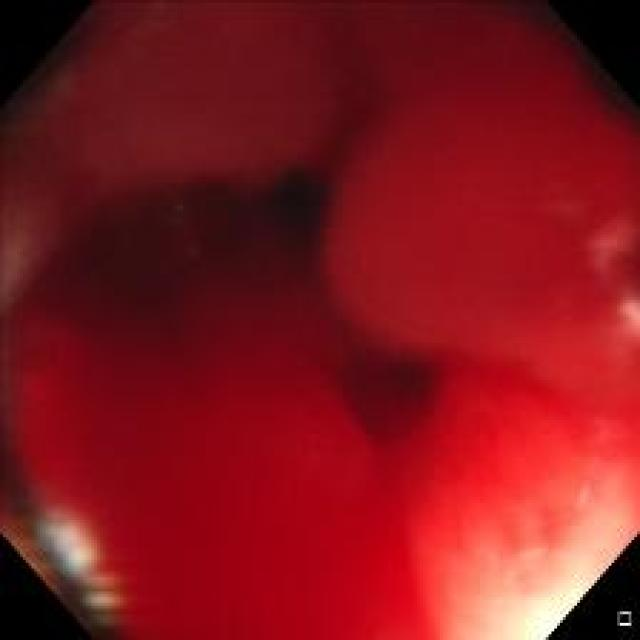blur: (11, 56, 625, 464)
color misalignment: (20, 501, 129, 615)
contrast: (86, 156, 329, 310)
saturation: (465, 536, 579, 635)
